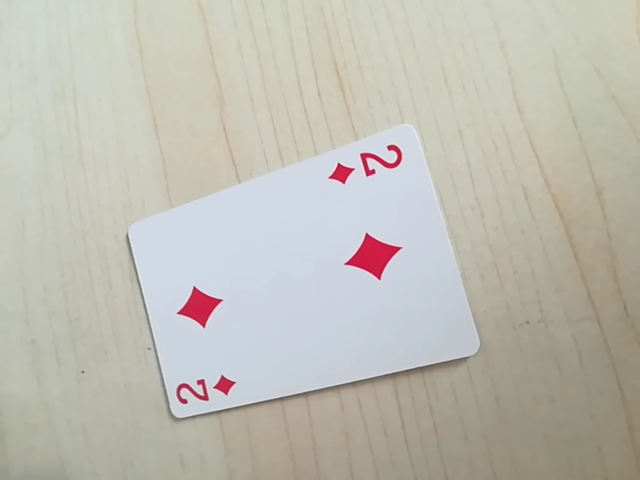fk 2: (328, 138, 413, 191), (173, 367, 242, 415)
